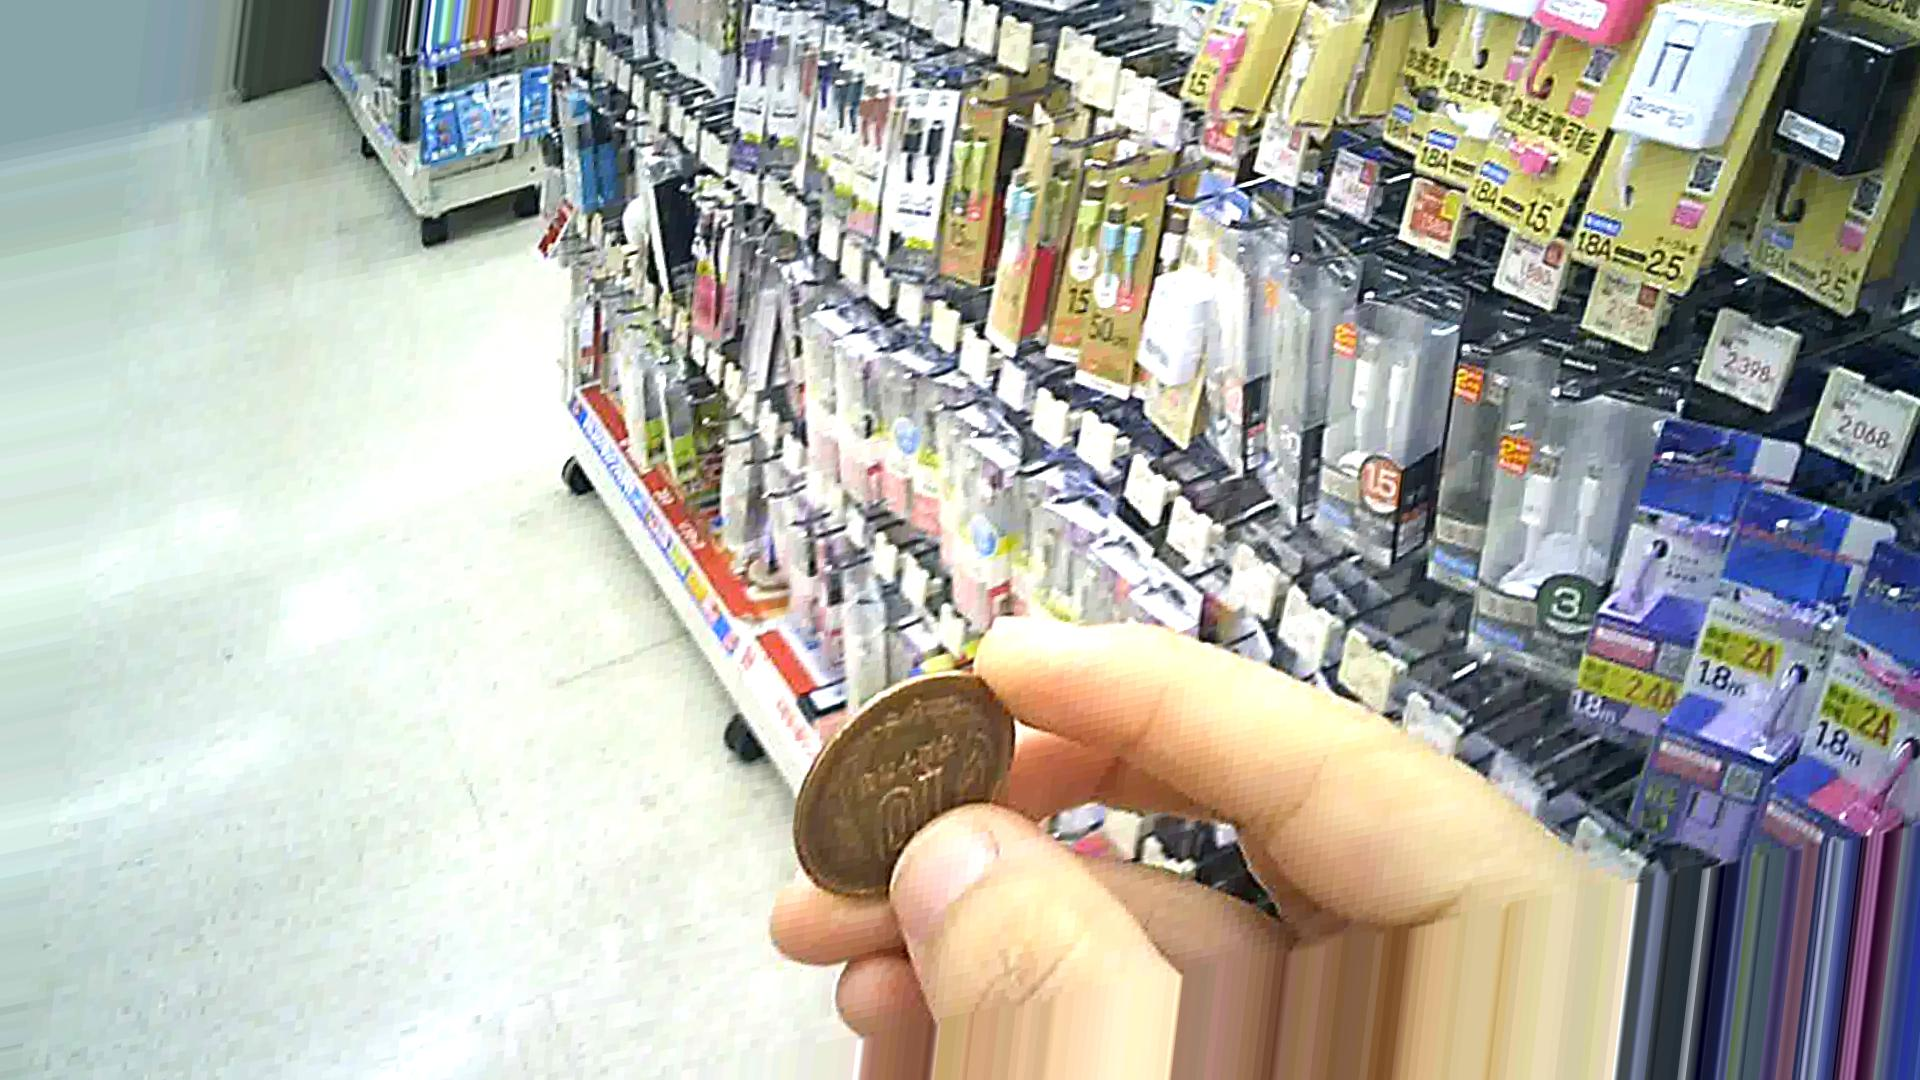10 Yen: (767, 659, 1025, 903)
